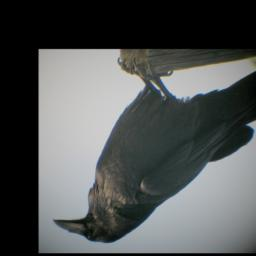Crow: (51, 57, 256, 245)
